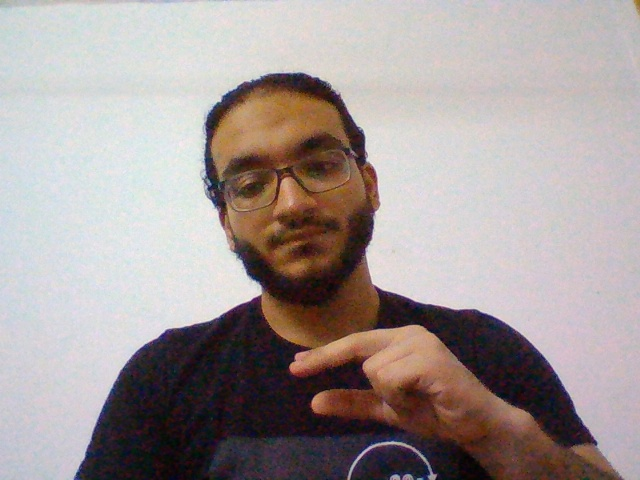No: (285, 325, 508, 461)
